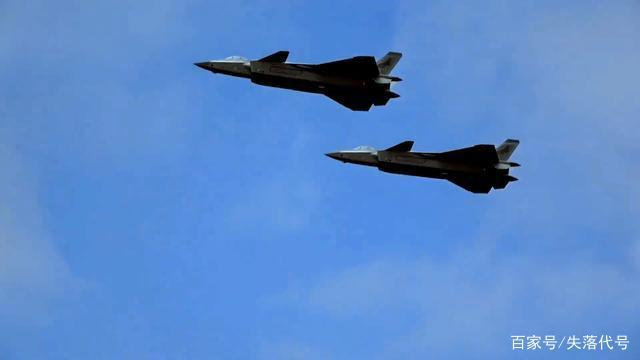airplane: (188, 38, 404, 115), (323, 130, 522, 193)
